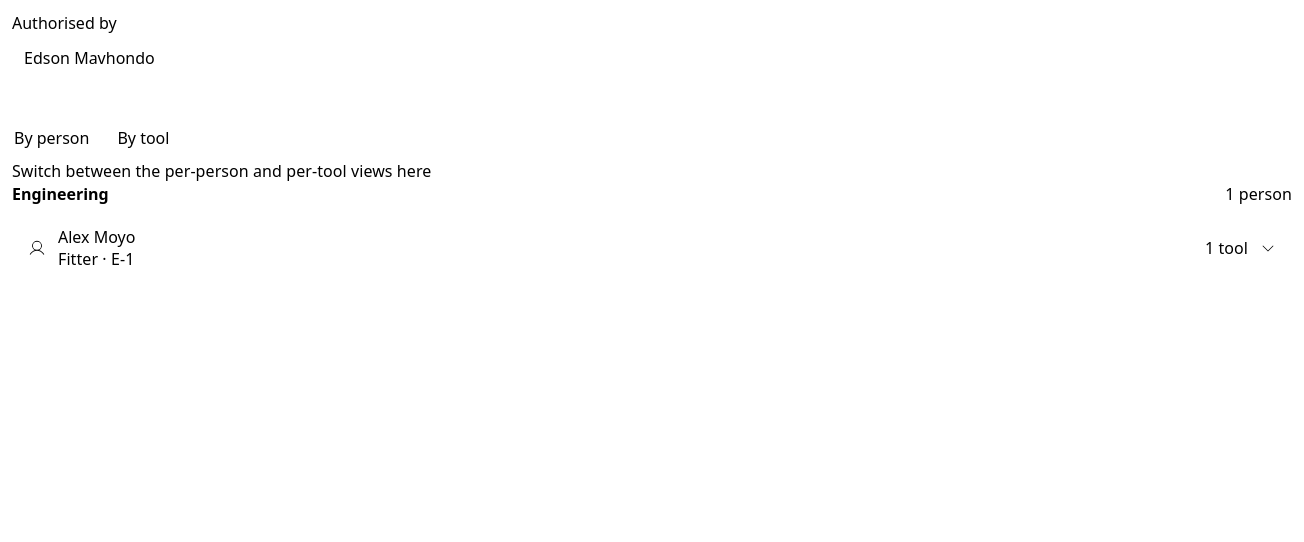
Scenario: ToolsPeople › lists the tools a person can use and who authorised it, once opened
The width and height of the screenshot is (1304, 542).
Expected: the text "1 tool" is shown, top-left (1205, 238), bottom-right (1248, 259)
Click the button "Alex Moyo Fitter · E-1 1 tool": (97, 237) top-left (12, 214), bottom-right (1292, 283)
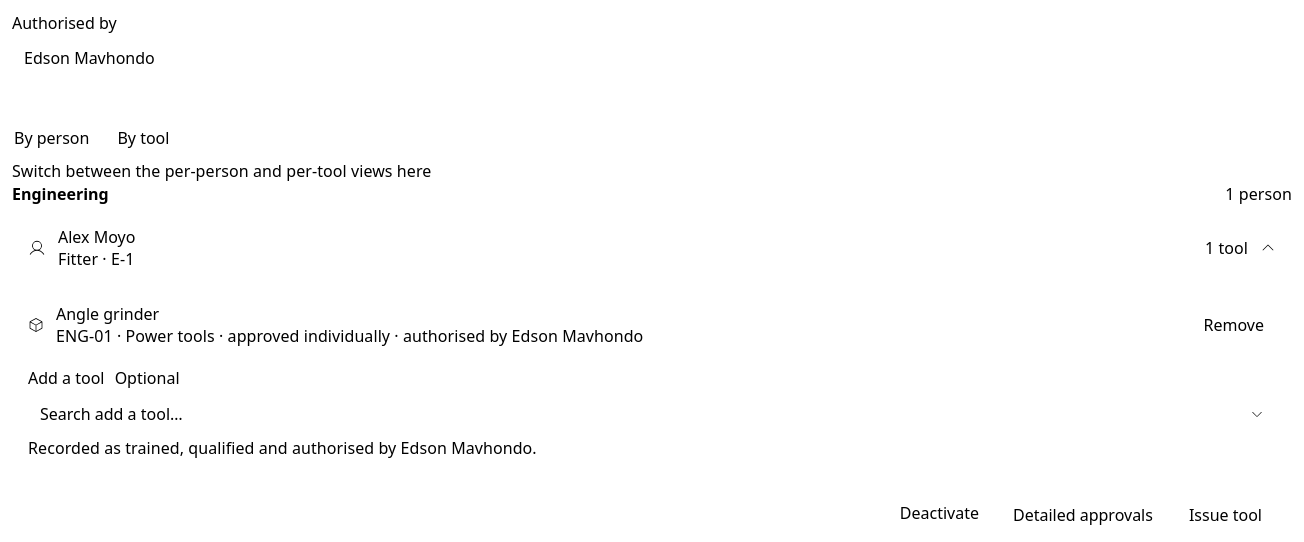
Result: the text "Angle grinder" is shown at top-left (56, 303), bottom-right (159, 325)
Result: the text "authorised by Edson Mavhondo" is shown at top-left (390, 325), bottom-right (643, 347)
Result: the text "approved individually" is shown at top-left (228, 325), bottom-right (390, 347)
